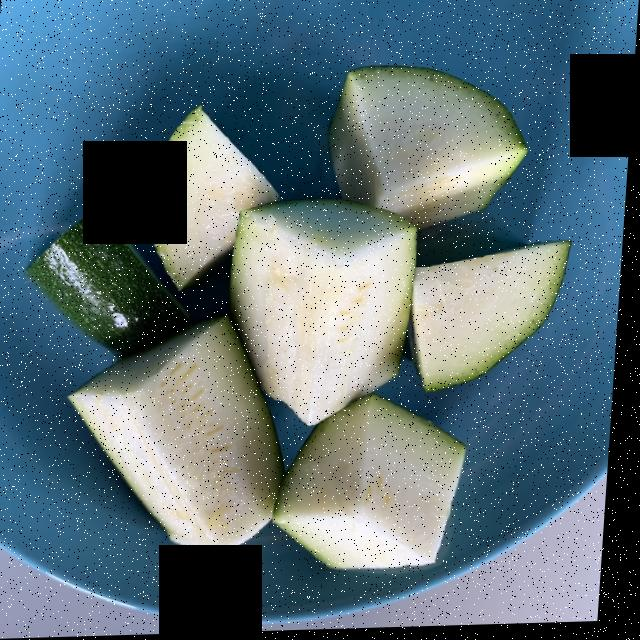zucchini: (55, 77, 554, 565)
